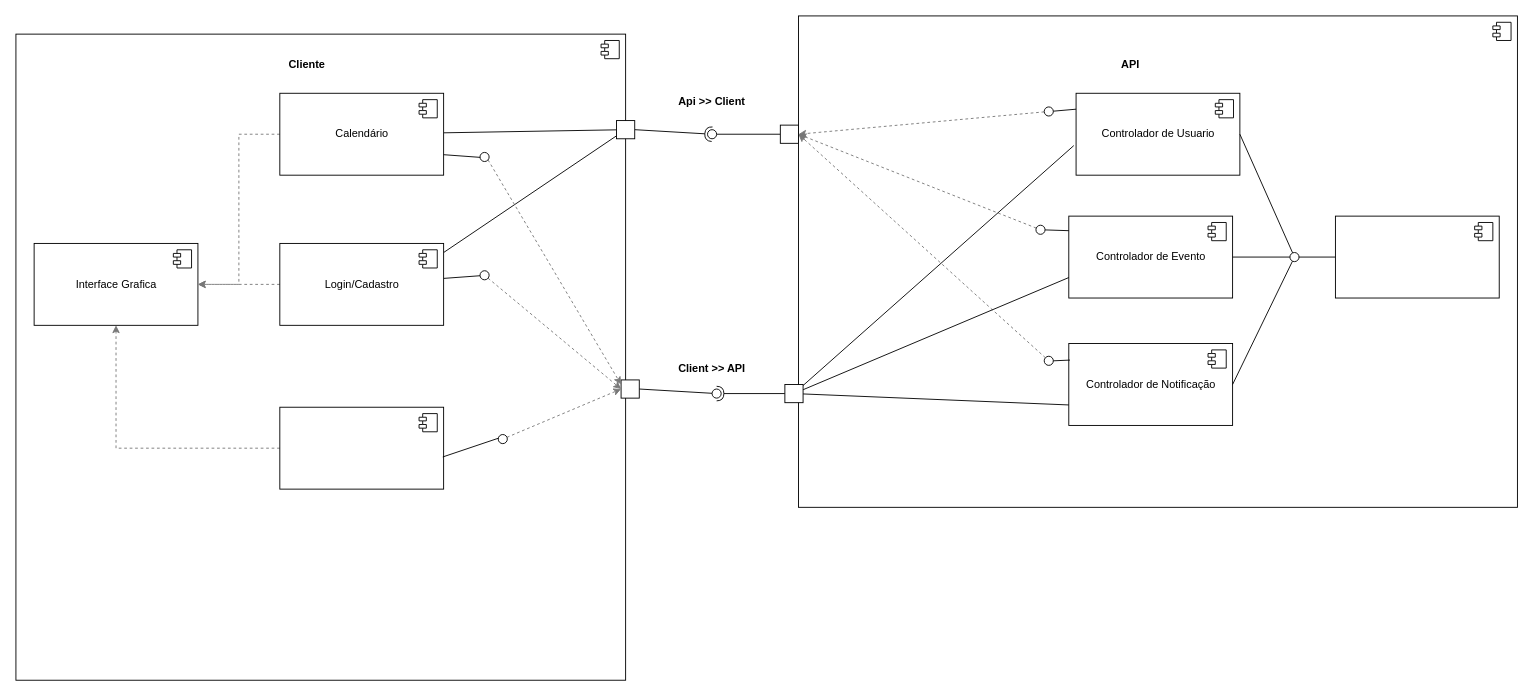
Some shapes in this 1533 by 696 pixel diagram are drawn without their labels. The shapes that lost their labels are listed below. From the top down, each one's box as (x1, y1, x2, y2) in pixels, then its label:
(1335, 215, 1499, 298): Banco de dados
(279, 406, 444, 489): Registro de Evento
